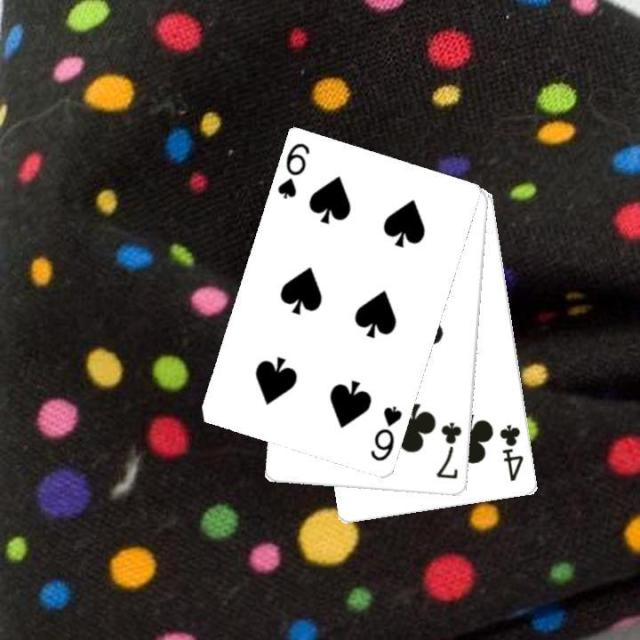4C: (496, 421, 526, 484)
6S: (366, 402, 404, 464), (274, 139, 312, 201)
7C: (433, 418, 464, 482)
